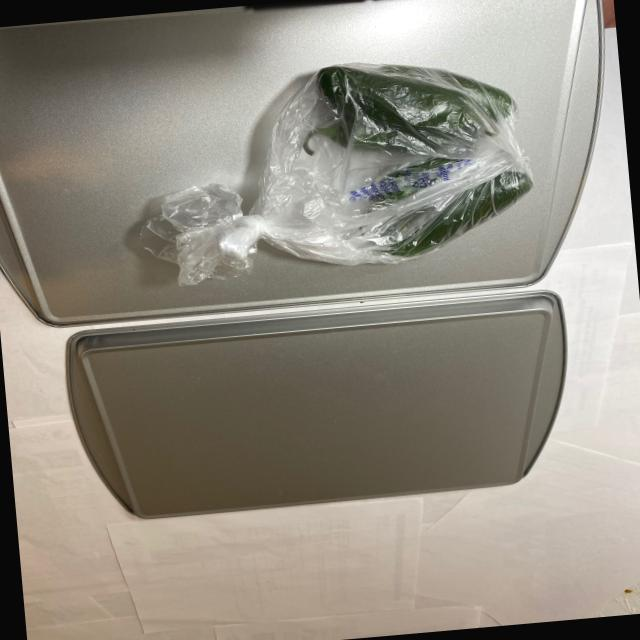chilli: (288, 46, 538, 266)
